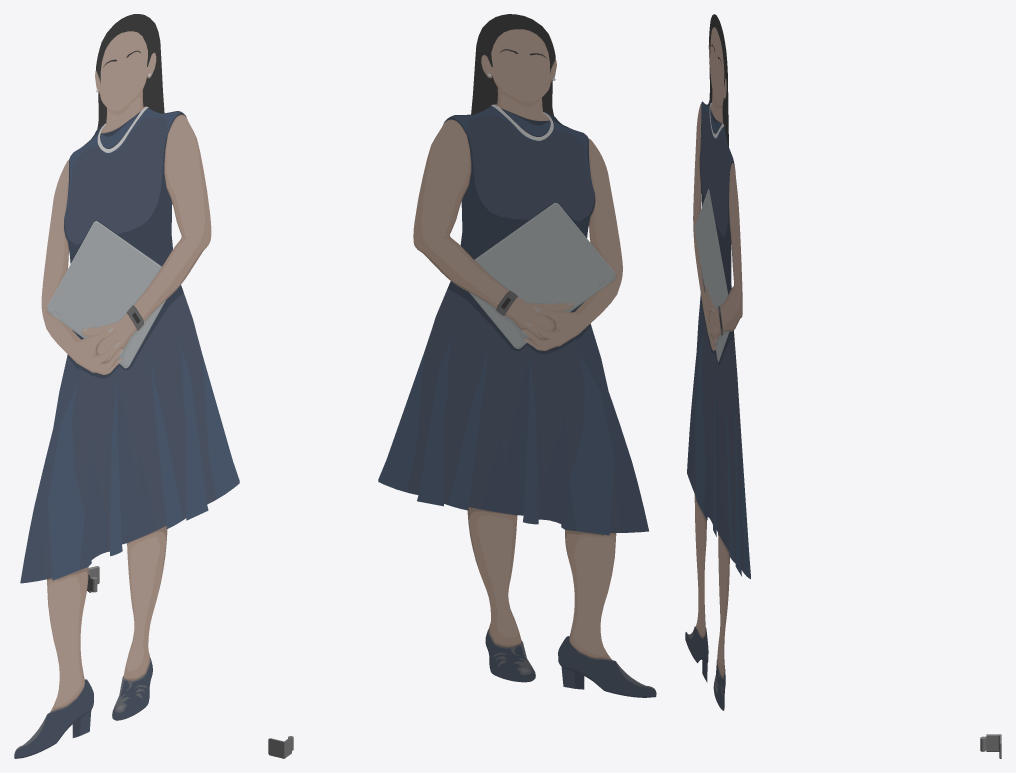
File: EZR_hinge-fixed.glb
3 views of the same model, side by side, from view 1: azimuth 30°, elevation 25°; view 2: azimuth 150°, elevation 25°; view 3: azimuth 270°, elevation 25° (orthographic). The views are drawn at different scales.
Parts seen in each view (by area): view 1: Geom3D (×13); view 2: Geom3D (×12); view 3: Geom3D (×9).
Part boxes in pixels (x1=…): Geom3D (×13): x1=14, y1=14, x2=239, y2=758; Geom3D (×12): x1=378, y1=14, x2=656, y2=696; Geom3D (×9): x1=685, y1=14, x2=750, y2=709.
Bounding box in the file's own units: 0.6153 × 1.59 × 0.666.
